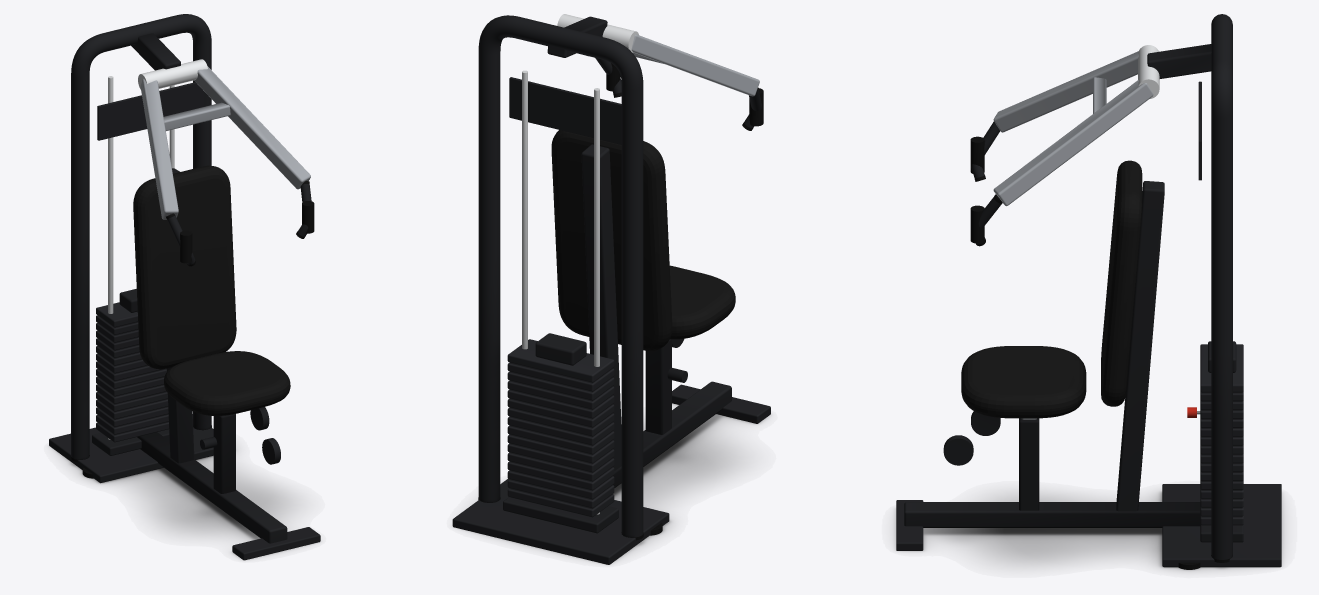
File: shoulder-press.glb
The picture shows the model from 3 angles, left to right: view 1: azimuth 30°, elevation 25°; view 2: azimuth 150°, elevation 25°; view 3: azimuth 270°, elevation 25°; orthographic projection. The views are drawn at different scales.
Visible parts, largest first — view 1: Encosto, Arco, Assento, Sombra_Contacto, Calha_Base, Braco_1, Placa_Nome, Base, Braco, Poste_Assento, Poste_Encosto, Pe_Frontal (+15 smaller); view 2: Arco, Encosto, Base, Poste_Encosto, Sombra_Contacto, Placa_Nome, Assento, Calha_Base, Braco, Poste_Assento, Batente, Placa_5kg (+21 smaller); view 3: Arco, Assento, Poste_Encosto, Calha_Base, Sombra_Contacto, Encosto, Base, Braco_1, Braco, Poste_Assento, Braco_Pivo, Pe_Frontal (+4 smaller).
Part boxes in pixels (left/top/right/bottom): Encosto: left=133, top=165, right=236, bottom=369; Arco: left=71, top=14, right=211, bottom=459; Assento: left=164, top=351, right=290, bottom=415; Sombra_Contacto: left=53, top=449, right=311, bottom=559; Calha_Base: left=137, top=432, right=287, bottom=543; Braco_1: left=194, top=66, right=310, bottom=189; Placa_Nome: left=97, top=82, right=204, bottom=140; Base: left=49, top=414, right=213, bottom=482; Braco: left=140, top=78, right=178, bottom=219; Poste_Assento: left=213, top=414, right=235, bottom=493; Poste_Encosto: left=166, top=168, right=194, bottom=463; Pe_Frontal: left=232, top=527, right=320, bottom=560; Arco: left=478, top=15, right=643, bottom=537; Encosto: left=551, top=130, right=672, bottom=350; Base: left=452, top=478, right=669, bottom=564; Poste_Encosto: left=581, top=144, right=621, bottom=470; Sombra_Contacto: left=472, top=403, right=768, bottom=561; Placa_Nome: left=509, top=77, right=621, bottom=144; Assento: left=669, top=265, right=735, bottom=339; Calha_Base: left=613, top=381, right=731, bottom=487; Braco: left=631, top=34, right=759, bottom=96; Poste_Assento: left=645, top=339, right=671, bottom=434; Batente: left=503, top=497, right=618, bottom=533; Placa_5kg: left=507, top=339, right=614, bottom=382; Arco: left=1211, top=14, right=1232, bottom=559; Assento: left=961, top=346, right=1086, bottom=418; Poste_Encosto: left=1116, top=181, right=1164, bottom=511; Calha_Base: left=904, top=502, right=1200, bottom=527; Sombra_Contacto: left=895, top=491, right=1283, bottom=570; Encosto: left=1101, top=160, right=1142, bottom=406; Base: left=1162, top=484, right=1281, bottom=567; Braco_1: left=993, top=79, right=1153, bottom=206; Braco: left=993, top=51, right=1138, bottom=132; Poste_Assento: left=1019, top=418, right=1039, bottom=510; Braco_Pivo: left=1147, top=44, right=1211, bottom=78; Pe_Frontal: left=896, top=500, right=923, bottom=550.
Bounding box in the file's own units: 0.8978 × 1.99 × 1.59.
Materials: 8 (1 with a texture image).
